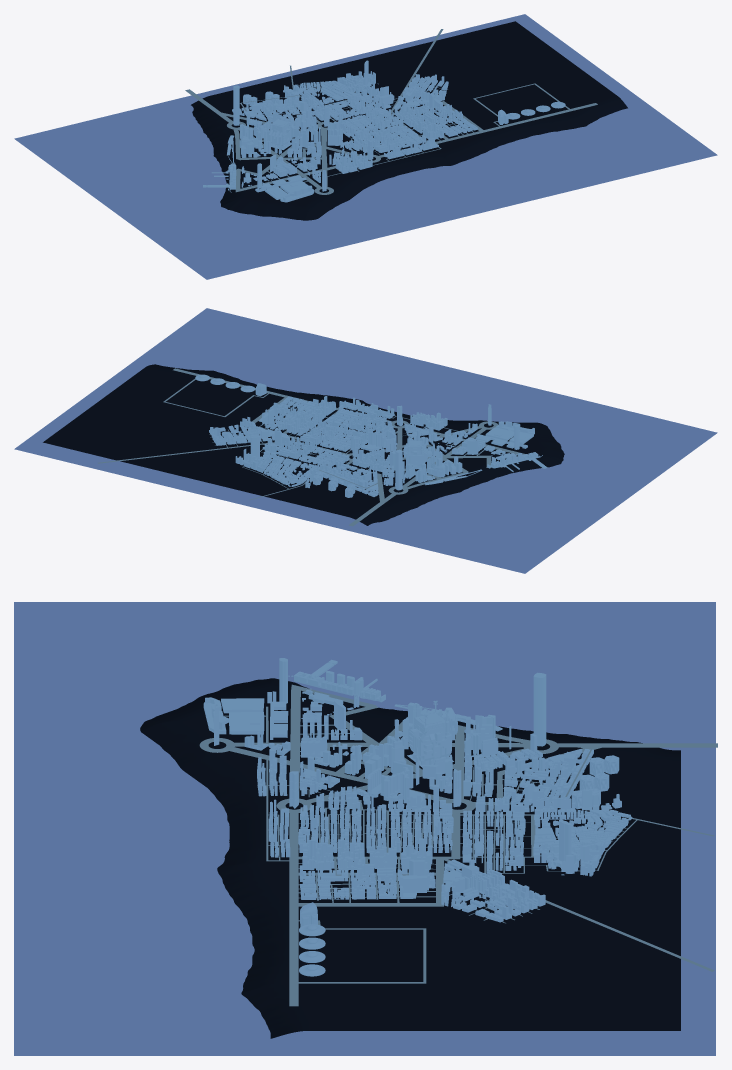
The model's file is map.glb.
3 renders of one model, top to bottom at view 1: azimuth 30°, elevation 25°; view 2: azimuth 150°, elevation 25°; view 3: azimuth 270°, elevation 25°, orthographic. The views are drawn at different scales.
Parts seen in each view (by area): view 1: road3.001; view 2: road3.001; view 3: road3.001.
Part boxes in pixels (box(x1,y1,x2,y2)): road3.001: box(14, 14, 717, 279); road3.001: box(14, 308, 717, 573); road3.001: box(14, 602, 717, 1055).
Size of the model in its own units: 268 by 23.91 by 176.
